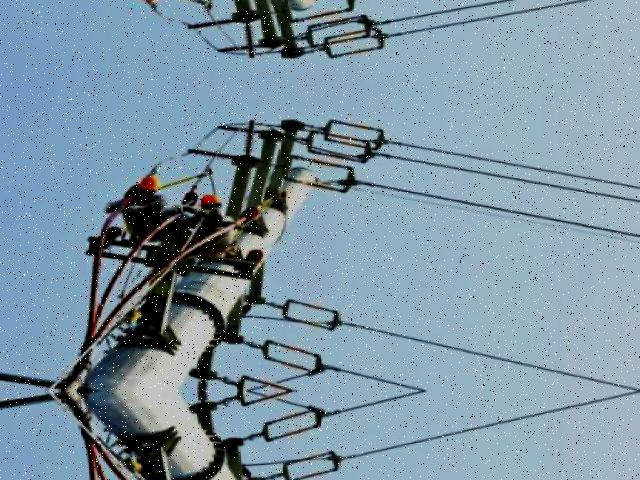Helmet: (131, 174, 161, 192), (196, 192, 224, 210)
